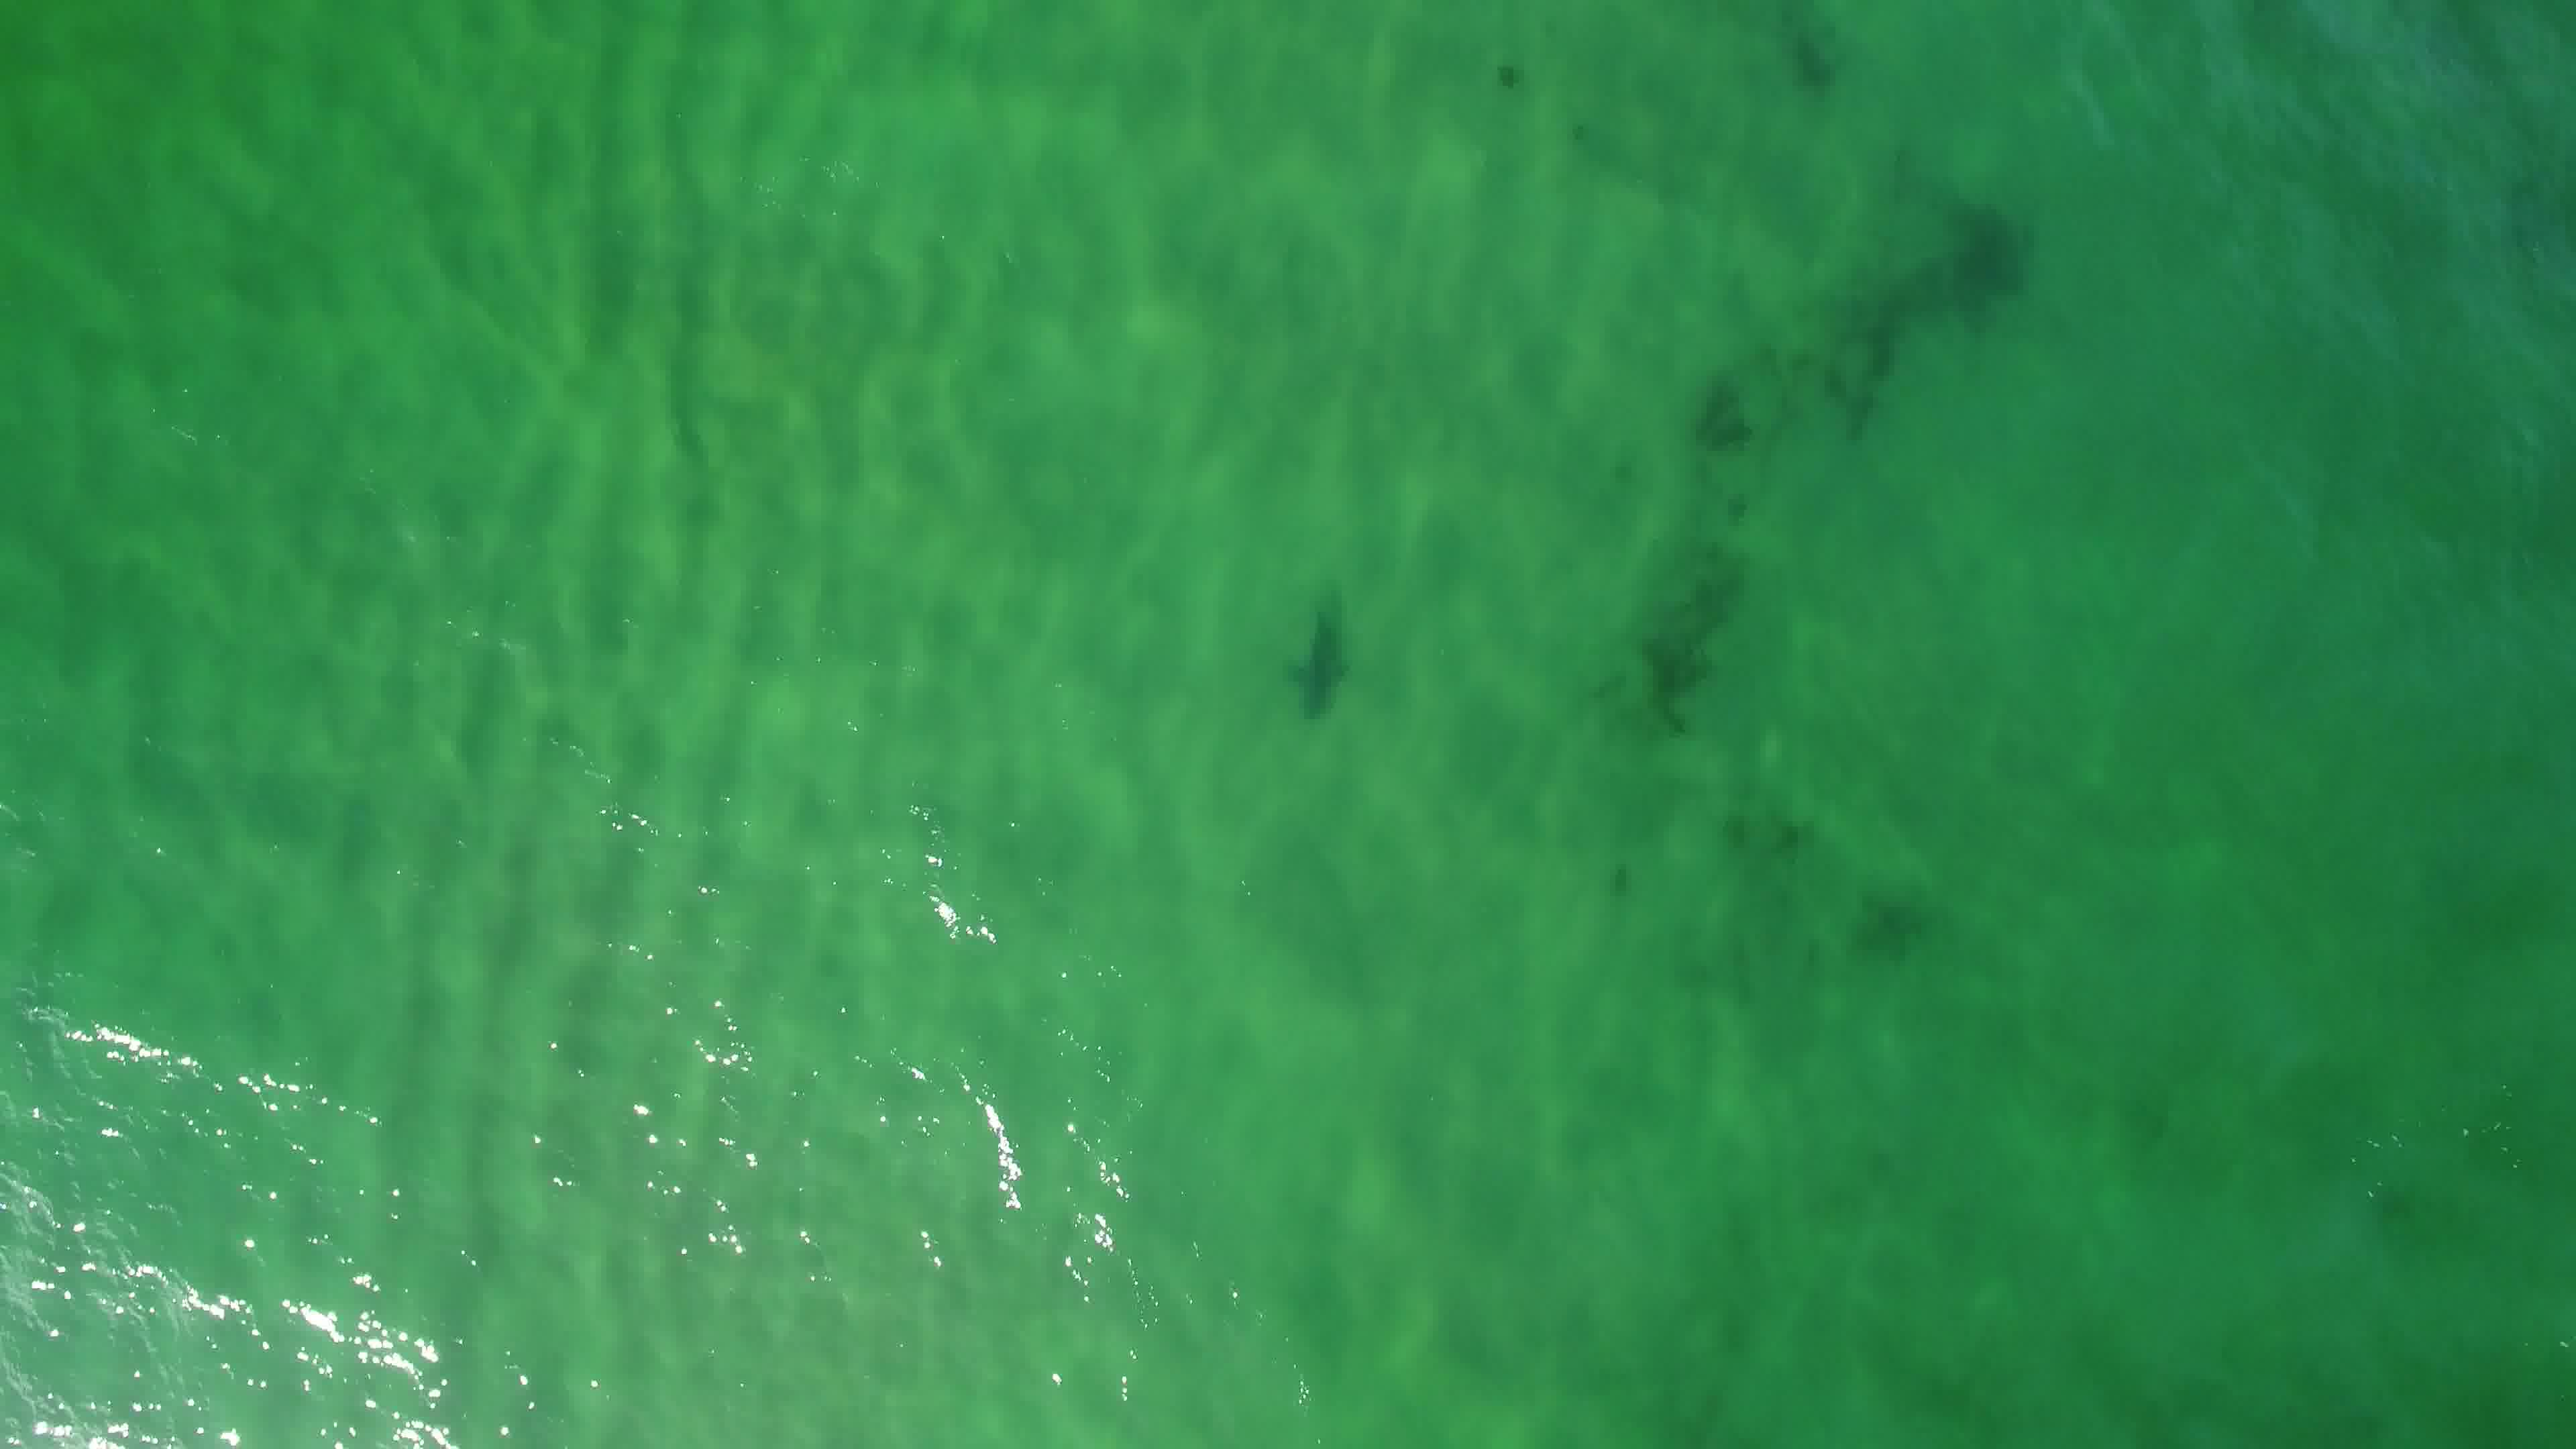shark: (1281, 602, 1357, 722)
